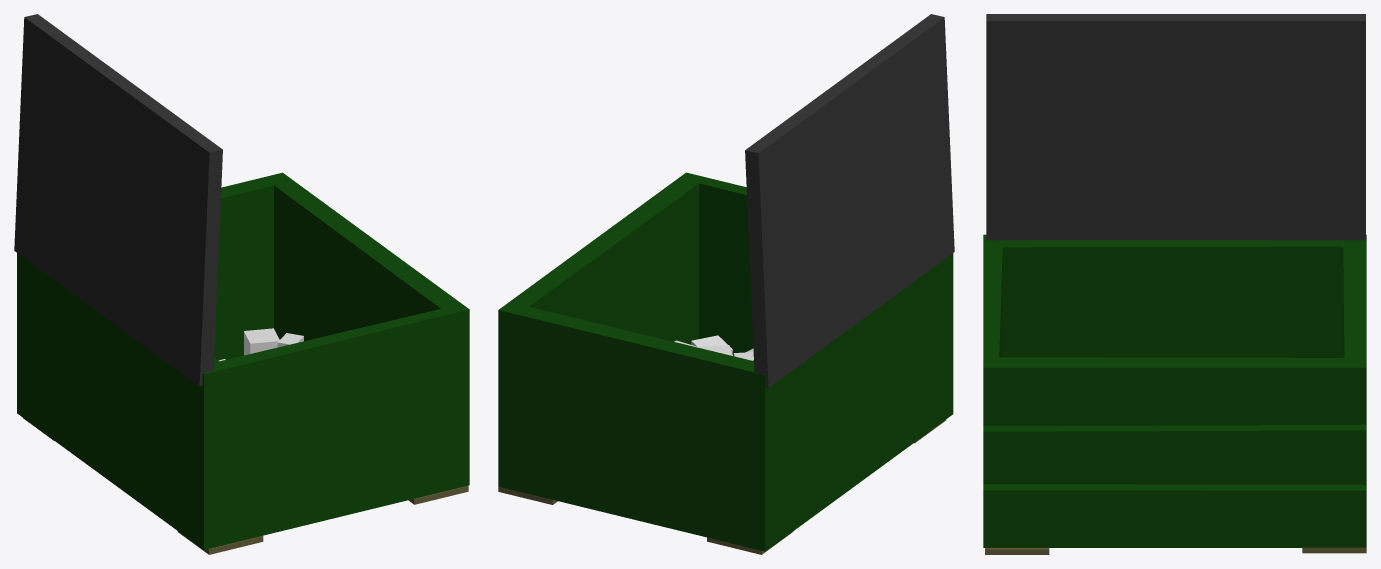
File: Dumpster.fbx
3 renders of one model, left to right at view 1: azimuth 30°, elevation 25°; view 2: azimuth 150°, elevation 25°; view 3: azimuth 270°, elevation 25°, orthographic. The views are drawn at different scales.
Visible parts, largest first — view 1: Cube.001, Cube.002, Cube.030; view 2: Cube.001, Cube.002; view 3: Cube.001, Cube.002.
Boxes of the visible parts, x1,y1,x2,y2 form: Cube.001: [17, 172, 469, 549]; Cube.002: [14, 14, 222, 386]; Cube.030: [244, 328, 279, 355]; Cube.001: [498, 172, 953, 551]; Cube.002: [745, 14, 954, 387]; Cube.001: [983, 234, 1366, 547]; Cube.002: [986, 14, 1365, 240].
Bounding box in the file's own units: 455 × 650 × 548.
